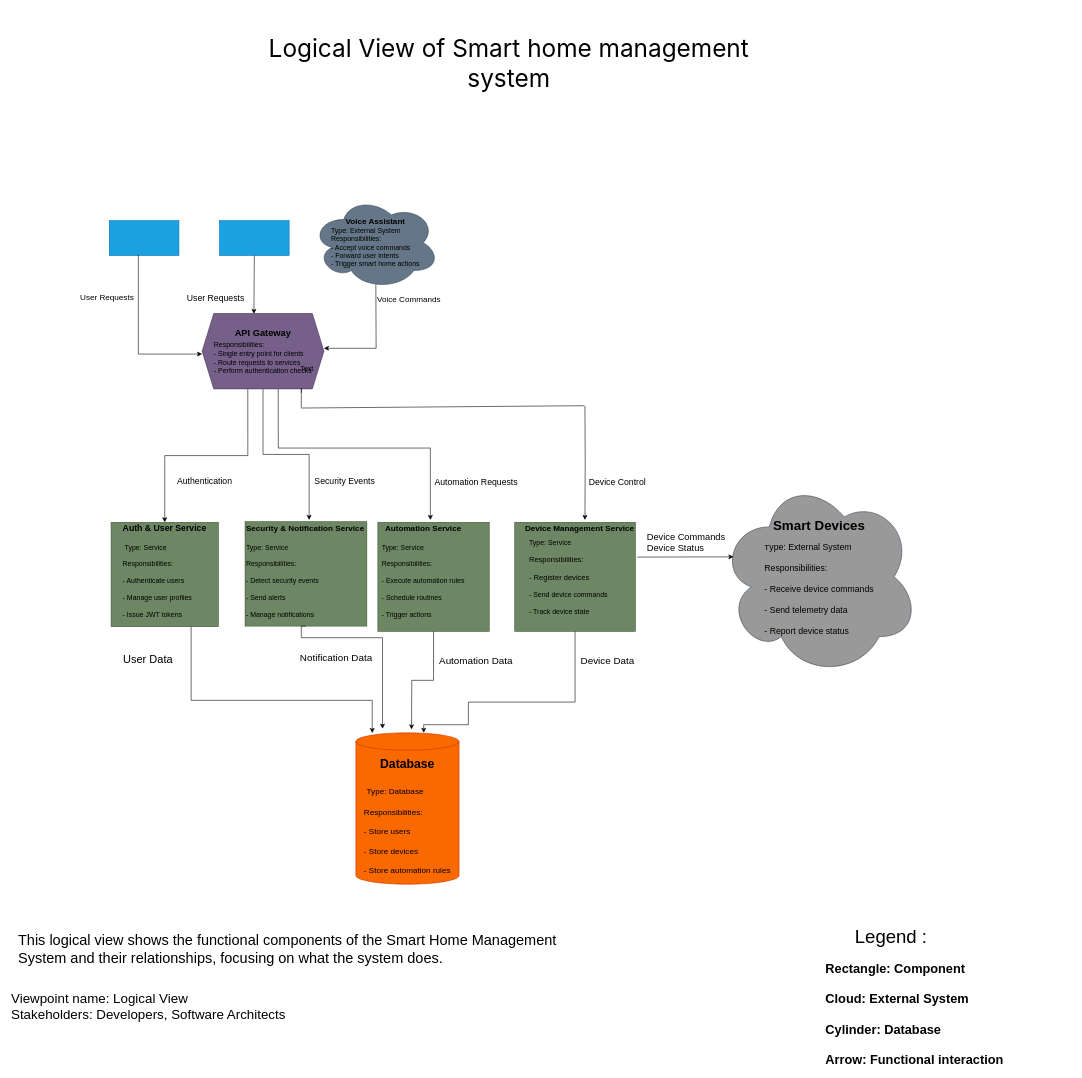
Image size: 1082x1078. Some labels were removed from this diagram. Here are the shapes that lost their labels. From the top down, the centre of each, then its label:
the point at 144,237: Mobile App
the point at 254,237: Web App
